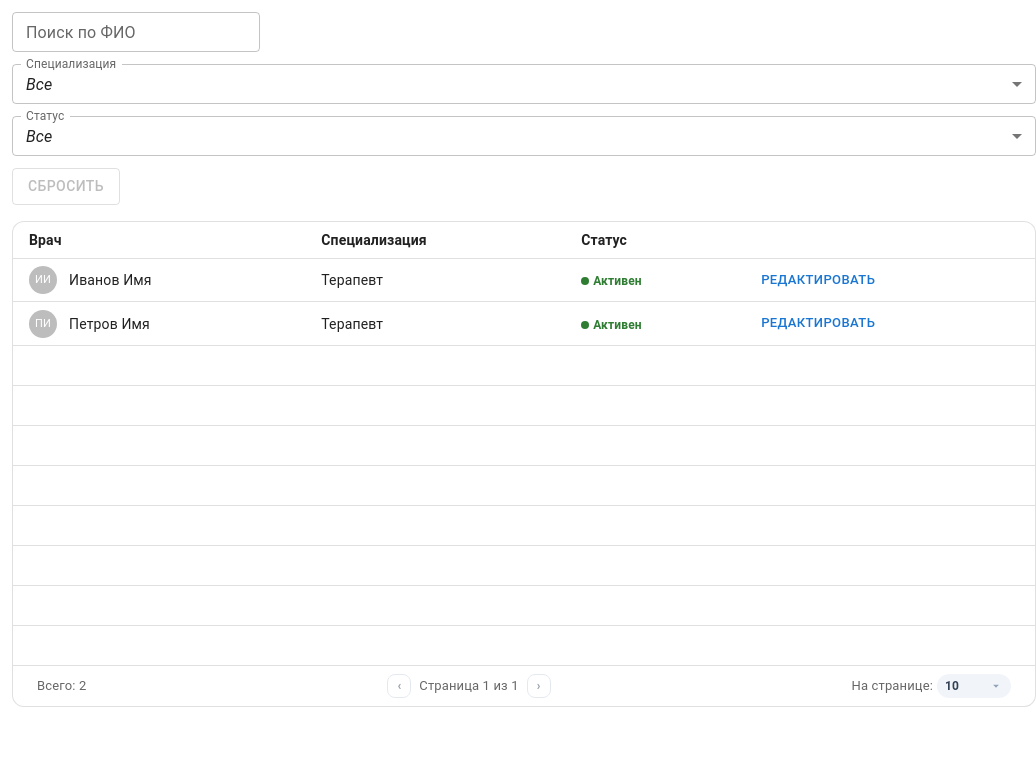
Test: DoctorsTable (3.1: таблица, поиск без перезагрузки) › поиск дёргает BFF (shared/api) с debounce, а не перезагружает страницу
This screenshot has width=1036, height=780.
Type "сидоров" into the field labelled "Поиск по ФИО" at [136, 32], box [12, 12, 260, 52]
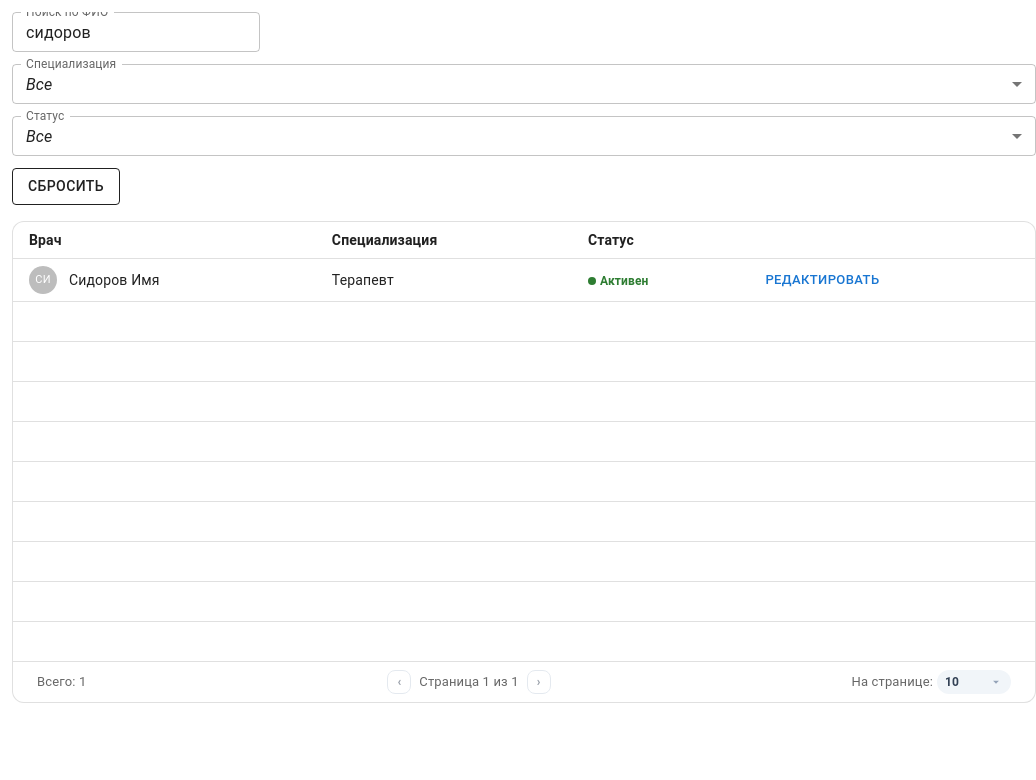
Result: the text "Сидоров Имя" is shown at [69, 270, 160, 290]
